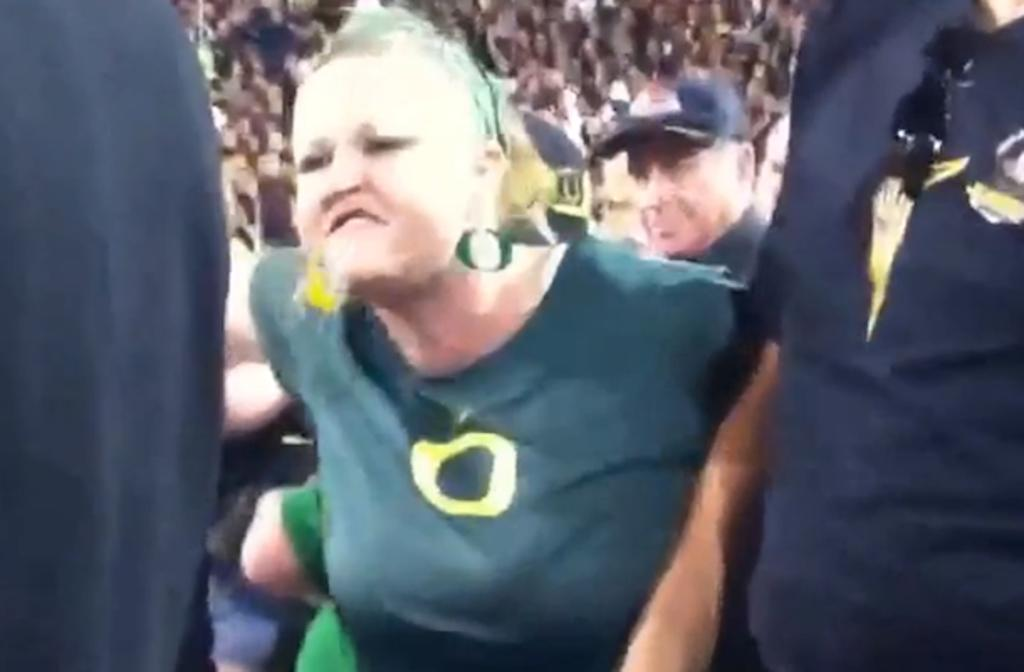face: (294, 80, 474, 286), (622, 138, 722, 262)
